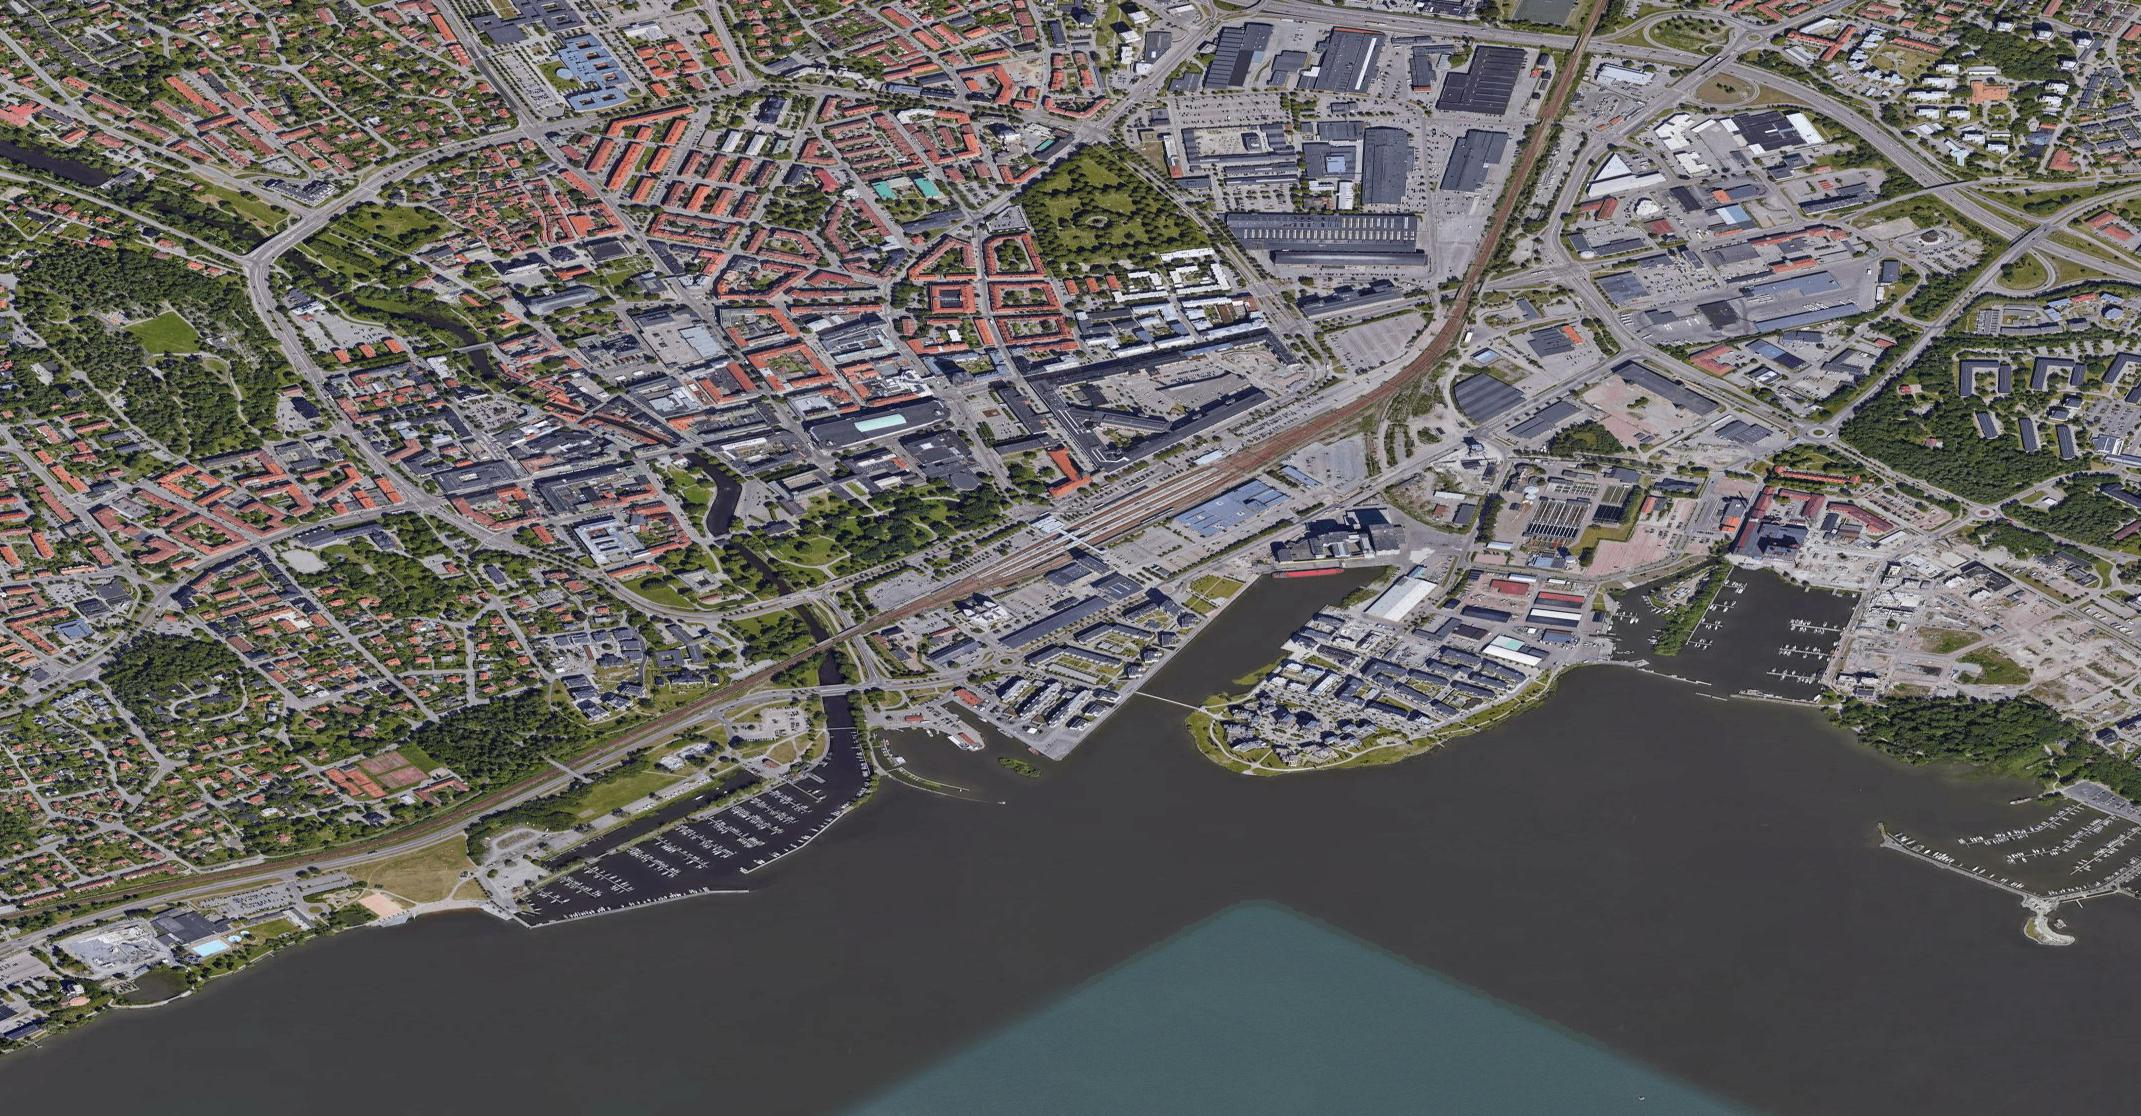bridge: (1136, 685, 1192, 711), (1698, 47, 1737, 75), (1919, 174, 1963, 200), (816, 676, 852, 704), (2012, 220, 2046, 249), (809, 633, 843, 657)
harbor: (500, 742, 885, 957), (1570, 551, 1868, 761), (1863, 746, 2141, 964)
train_station: (1034, 453, 1240, 569)
